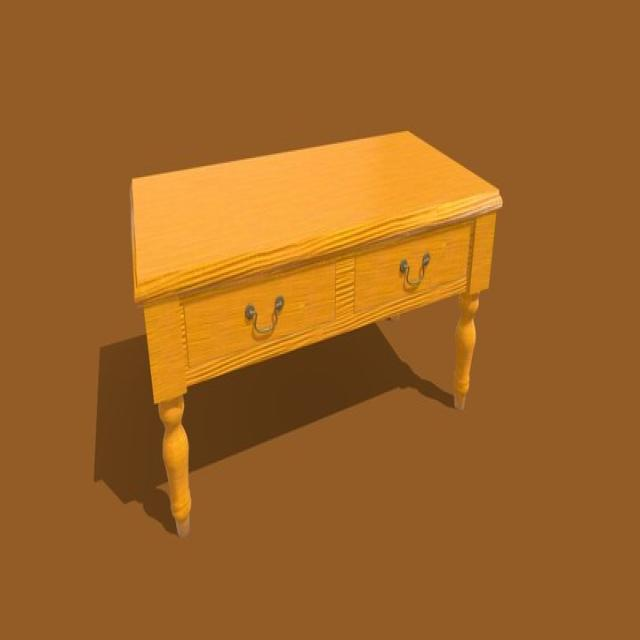table: (132, 131, 502, 539)
